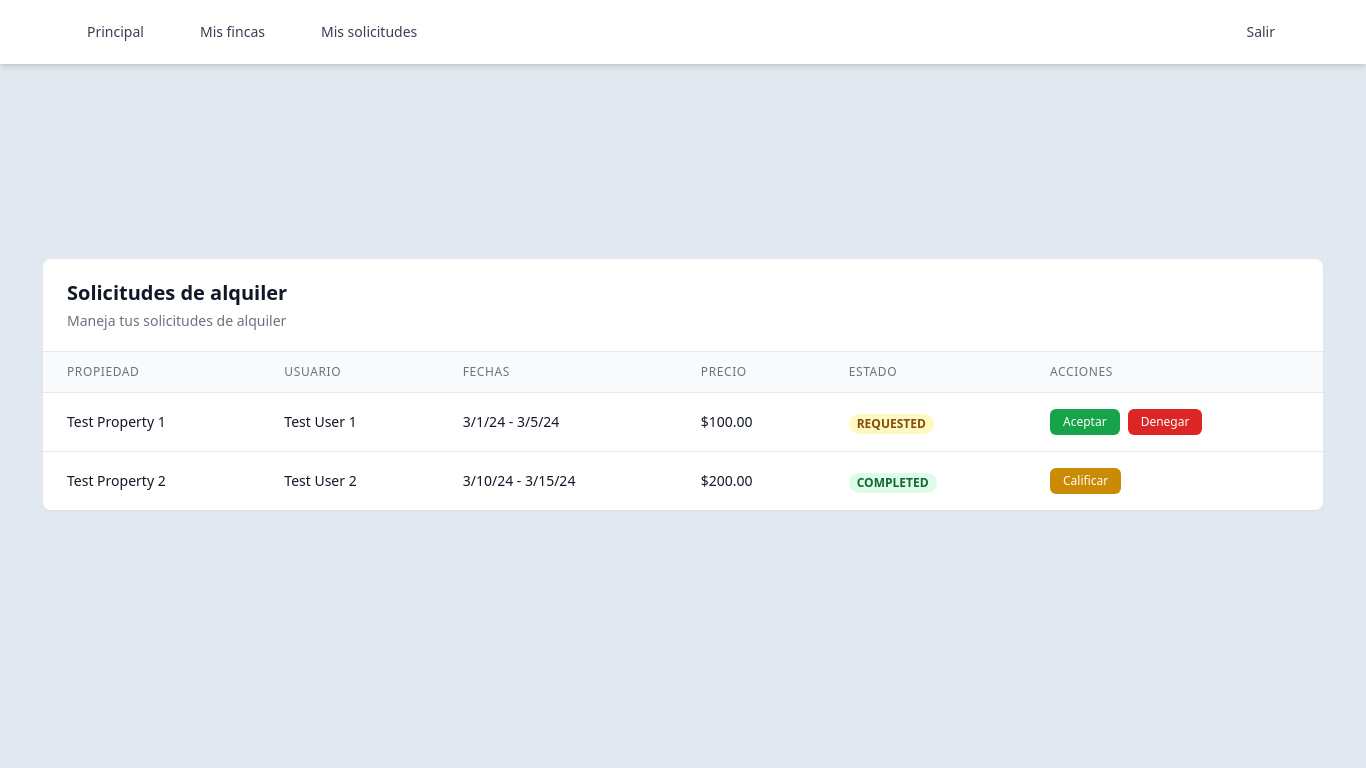
Test case: Owner Requests Page › Request Actions › should handle accept request action
Click the button with test id "accept-button-1".
click(1085, 422)  # box [1050,409,1120,435]
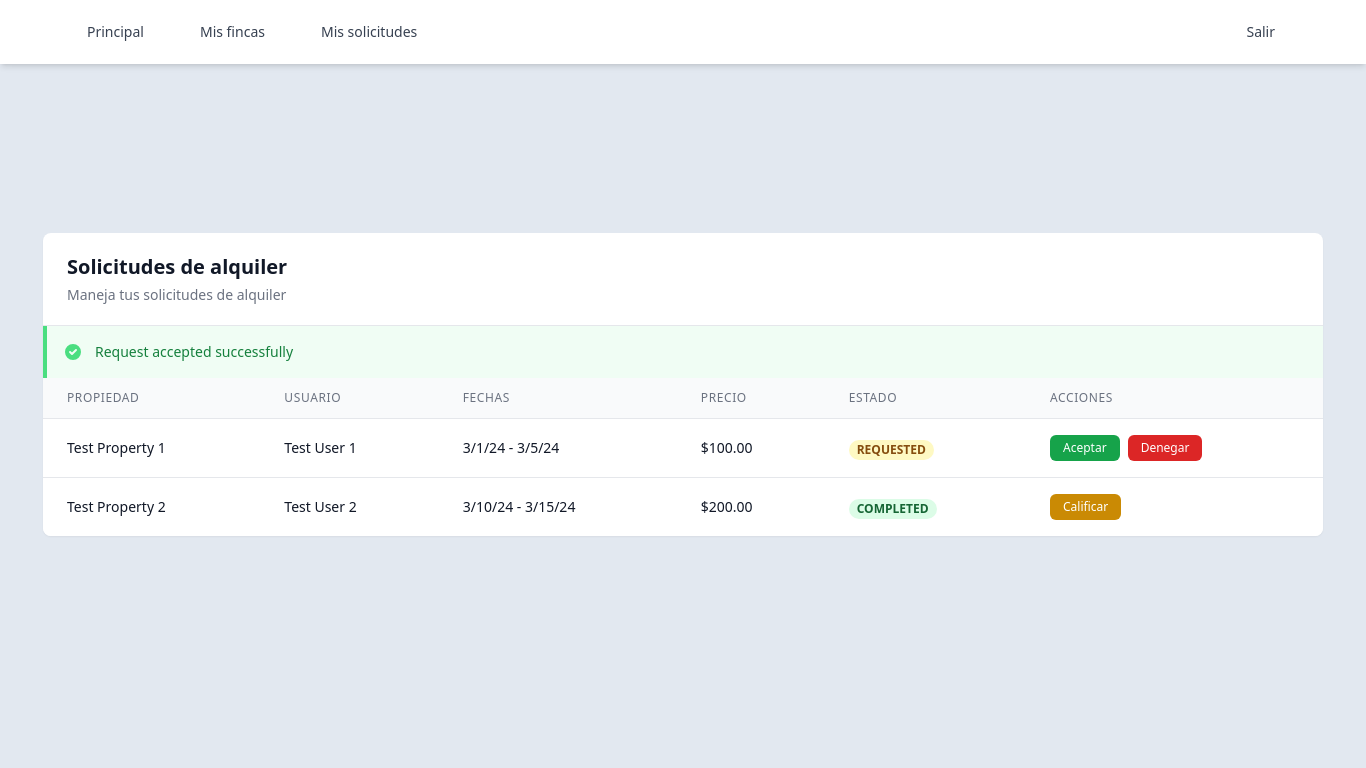
Check: the element with test id "success-message" is shown, box [43,326,1323,378]
Check: the text with test id "success-message" reads "Request accepted successfully", box [95,342,293,361]
